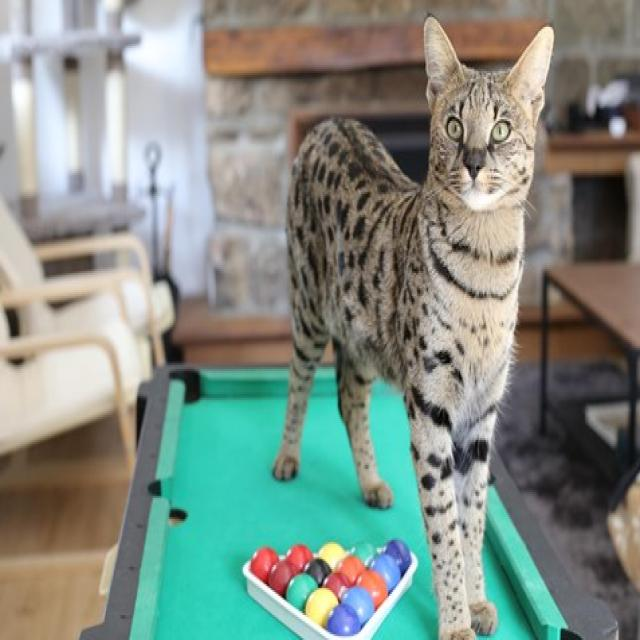Savannah: (268, 9, 558, 640)
